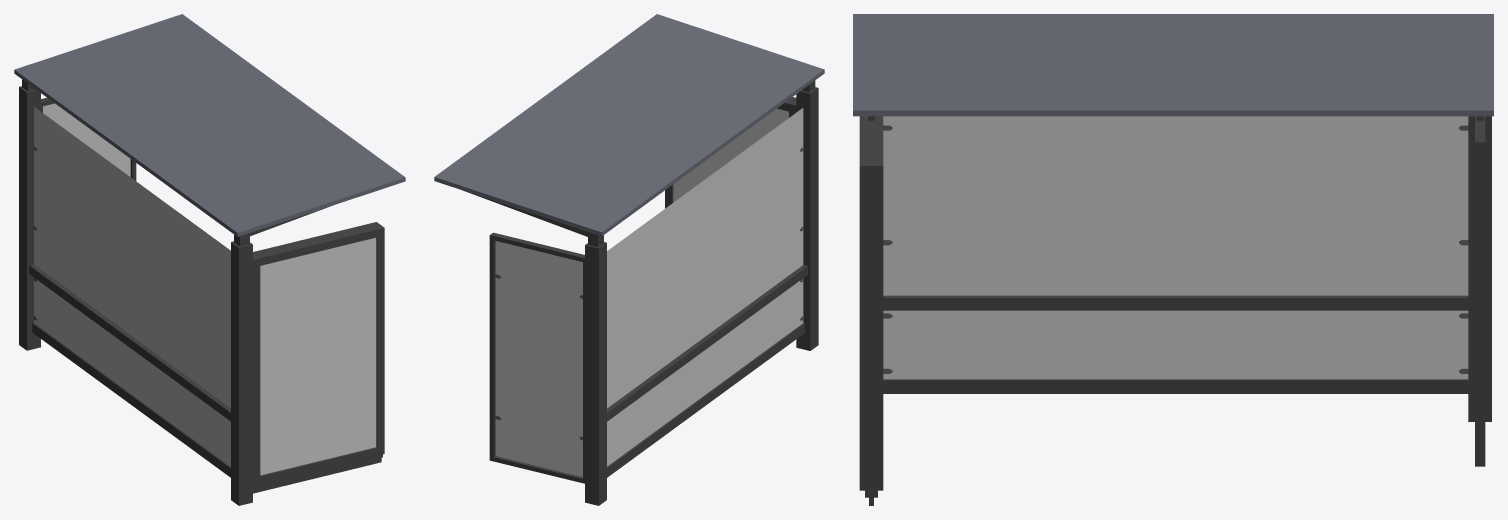
Rendered from Bus stop.fbx.
3 renders of one model, left to right at view 1: azimuth 30°, elevation 25°; view 2: azimuth 150°, elevation 25°; view 3: azimuth 270°, elevation 25°, orthographic. The views are drawn at different scales.
Visible parts, largest first — view 1: bus stop; view 2: bus stop; view 3: bus stop.
Boxes of the visible parts, box(x1,y1,x2,y2) form: bus stop: box(14, 14, 405, 505); bus stop: box(434, 14, 824, 505); bus stop: box(853, 14, 1493, 505).
Size of the model in its own units: 137 by 227 by 316.
3 materials, 1 textured.
